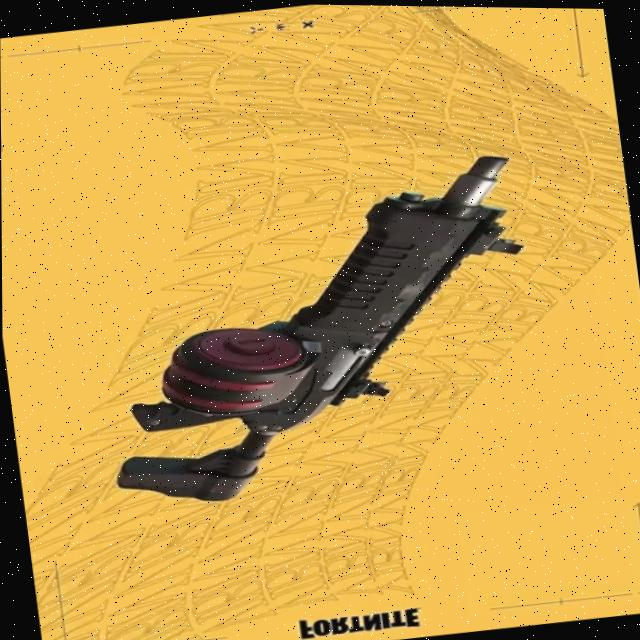firearm: (78, 141, 559, 516)
